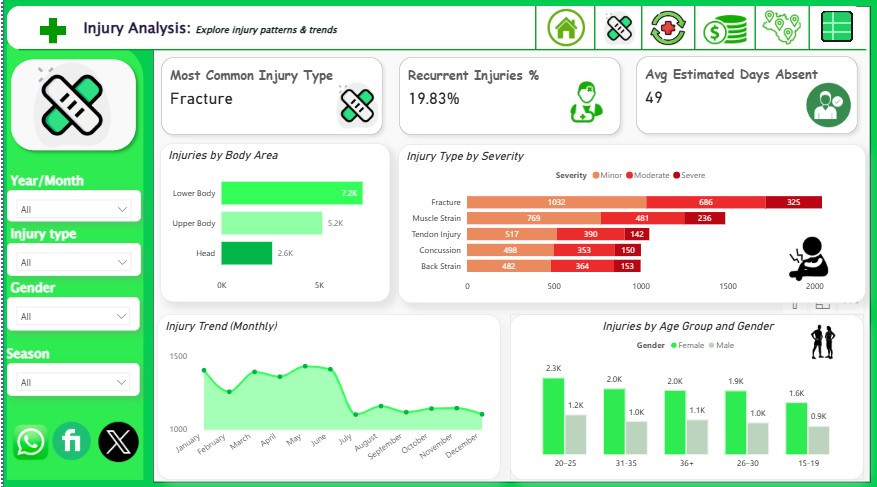

The page's visual inventory and layout, read from the dashboard file:
{"tool":"powerbi","page":{"name":"Injury Asl","canvas":[1280,720],"ordinal":1},"visuals":[{"type":"shape","box":[0,0,1280.2,720],"z":0},{"type":"shape","box":[5.8,69.1,200.2,637.9],"z":1000},{"type":"shape","box":[218.9,13,1049.8,697],"z":2000},{"type":"shape","box":[5.8,13,1255.7,63.4],"z":3000},{"type":"textbox","box":[112.3,24.5,861.1,51.8],"z":4000},{"type":"cardVisual","title":"dbdbdbdbd","fields":{"Data":["Measure.Most Common Injury Type"]},"box":[218.9,76.3,348.5,138.2],"z":5000},{"type":"clusteredBarChart","title":"Injuries by Body Area","fields":{"Y":["Measure.Total Injuries"],"Category":["DimInjuryType.Body Area Category"]},"box":[230.4,213.1,337,233.3],"z":6000},{"type":"lineChart","title":"Injury Trend (Monthly)","fields":{"Y":["Measure.Total Injuries"],"Category":["DateTable.Month Name"]},"box":[224.6,463.7,502.6,243.4],"z":7000},{"type":"clusteredColumnChart","title":"Injuries by Age Group and Gender","fields":{"Category":["DimPlayer.Age Group"],"Y":["Measure.Total Injuries"],"Series":["DimPlayer.Gender"]},"box":[741.6,463.7,518.4,243.4],"z":8000},{"type":"image","box":[33.1,13,79.2,73.4],"z":9000},{"type":"slicer","title":"Year/Month","fields":{"Values":["DateTable.Year","DateTable.Month Name"]},"box":[5.8,282.2,195.8,46.1],"z":10000},{"type":"textbox","box":[5.8,250.6,149.8,60.5],"z":11000},{"type":"slicer","title":"Year/Month","fields":{"Values":["DimInjuryType.InjuryType"]},"box":[5.8,360,195.8,47.5],"z":12000},{"type":"textbox","box":[5.8,328.3,149.8,60.5],"z":13000},{"type":"slicer","title":"Year/Month","fields":{"Values":["DimPlayer.Gender"]},"box":[5.8,439.2,194.4,49],"z":14000},{"type":"textbox","box":[5.8,407.5,149.8,60.5],"z":15000},{"type":"image","box":[476.6,118.1,83.5,80.6],"z":16000},{"type":"cardVisual","title":"dbdbdbdbd","fields":{"Data":["Measure.Avg Estimated Days Absent"]},"box":[914.4,74.9,348.5,138.2],"z":17000},{"type":"cardVisual","title":"dbdbdbdbd","fields":{"Data":["Measure.Recurrent Injuries %"]},"box":[567.4,76.3,348.5,138.2],"z":18000},{"type":"barChart","title":"Injury Type by Severity","fields":{"Category":["DimInjuryType.InjuryType"],"Y":["Measure.Total Injuries"],"Series":["DimInjuryType.Severity"]},"box":[577.4,214.6,685.4,233.3],"z":19000},{"type":"image","box":[1136.2,339.8,92.2,87.8],"z":20000},{"type":"image","box":[1168.6,467.8,60,73.7],"z":21000},{"type":"image","box":[815,115.2,74.9,74.9],"z":22000},{"type":"slicer","title":"Year/Month","fields":{"Values":["FactInjuries.Season"]},"box":[5.8,535.7,194.4,47.5],"z":23000},{"type":"textbox","box":[0,504,200.2,56.2],"z":24000},{"type":"image","box":[1170.7,115.2,74.9,85],"z":25000},{"type":"image","box":[792,10.1,64.8,69.1],"z":26000},{"type":"image","box":[871.2,10.1,63.4,70.6],"z":27000},{"type":"image","box":[941.8,7.2,61.9,76.3],"z":28000},{"type":"image","box":[1019.5,7.2,73.4,80.6],"z":29000},{"type":"shape","box":[756,13,46.1,63.4],"z":30000},{"type":"shape","box":[842.4,13,46.1,63.4],"z":31000},{"type":"shape","box":[911.5,13,46.1,63.4],"z":32000},{"type":"shape","box":[989.3,13,46.1,63.4],"z":33000},{"type":"shape","box":[1075.7,13,50.4,63.4],"z":34000},{"type":"shape","box":[1154.9,13,50.4,63.4],"z":35000},{"type":"shape","box":[23,46.1,1239.8,63.4],"z":36000},{"type":"image","box":[1105.9,11.5,66.2,66.2],"z":37000},{"type":"image","box":[1180.8,11.5,76.3,60.5],"z":38000},{"type":"shape","box":[2.9,82.1,200.2,151.2],"z":39000},{"type":"image","box":[30.2,87.8,141.1,141.1],"z":40000},{"type":"image","box":[0,614.9,80.6,73.4],"z":41000},{"type":"image","box":[67.7,614.9,66.2,69.1],"z":42000},{"type":"image","box":[133.9,614.9,69.1,72],"z":43000}]}

Visuals, with their boxes in screenshot pixels (x1, y1, x2, y2), scaled from the page's 1280x720 canvas onto the 877x487 screenshot:
shape: 0/0/876/486
shape: 4/47/141/478
shape: 150/9/869/480
shape: 4/9/864/52
textbox: 77/17/667/52
"dbdbdbdbd" cardVisual: 150/52/389/145
"Injuries by Body Area" clusteredBarChart: 158/144/389/302
"Injury Trend (Monthly)" lineChart: 154/314/498/478
"Injuries by Age Group and Gender" clusteredColumnChart: 508/314/863/478
image: 23/9/77/58
"Year/Month" slicer: 4/191/138/222
textbox: 4/170/107/210
"Year/Month" slicer: 4/244/138/276
textbox: 4/222/107/263
"Year/Month" slicer: 4/297/137/330
textbox: 4/276/107/317
image: 327/80/384/134
"dbdbdbdbd" cardVisual: 627/51/865/144
"dbdbdbdbd" cardVisual: 389/52/628/145
"Injury Type by Severity" barChart: 396/145/865/303
image: 778/230/842/289
image: 801/316/842/366
image: 558/78/610/129
"Year/Month" slicer: 4/362/137/394
textbox: 0/341/137/379
image: 802/78/853/135
image: 543/7/587/54
image: 597/7/640/55
image: 645/5/688/56
image: 699/5/749/59
shape: 518/9/550/52
shape: 577/9/609/52
shape: 625/9/656/52
shape: 678/9/709/52
shape: 737/9/772/52
shape: 791/9/826/52
shape: 16/31/865/74
image: 758/8/803/53
image: 809/8/861/49
shape: 2/56/139/158
image: 21/59/117/155
image: 0/416/55/466
image: 46/416/92/463
image: 92/416/139/465
